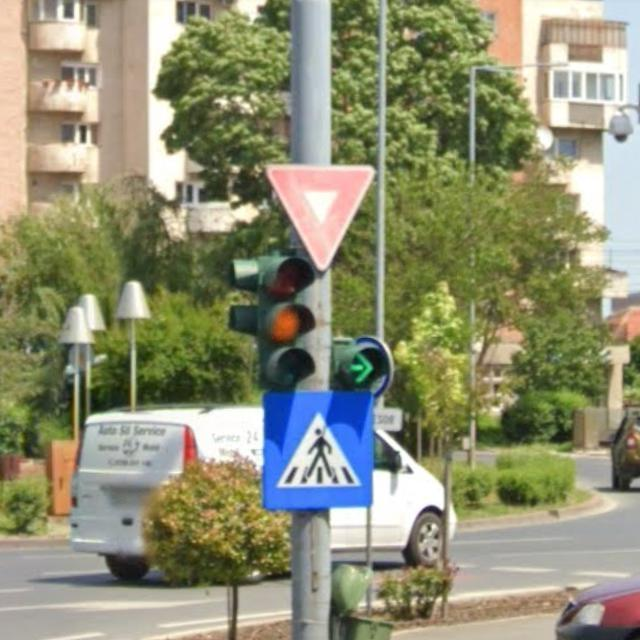info_crosswalk: (259, 385, 375, 508)
prio_give_way: (261, 164, 374, 276)
